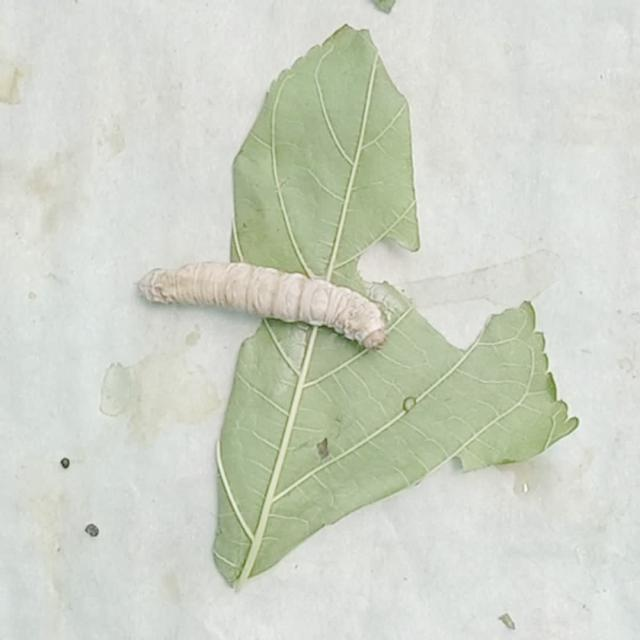Grasserie: (139, 235, 399, 367)
